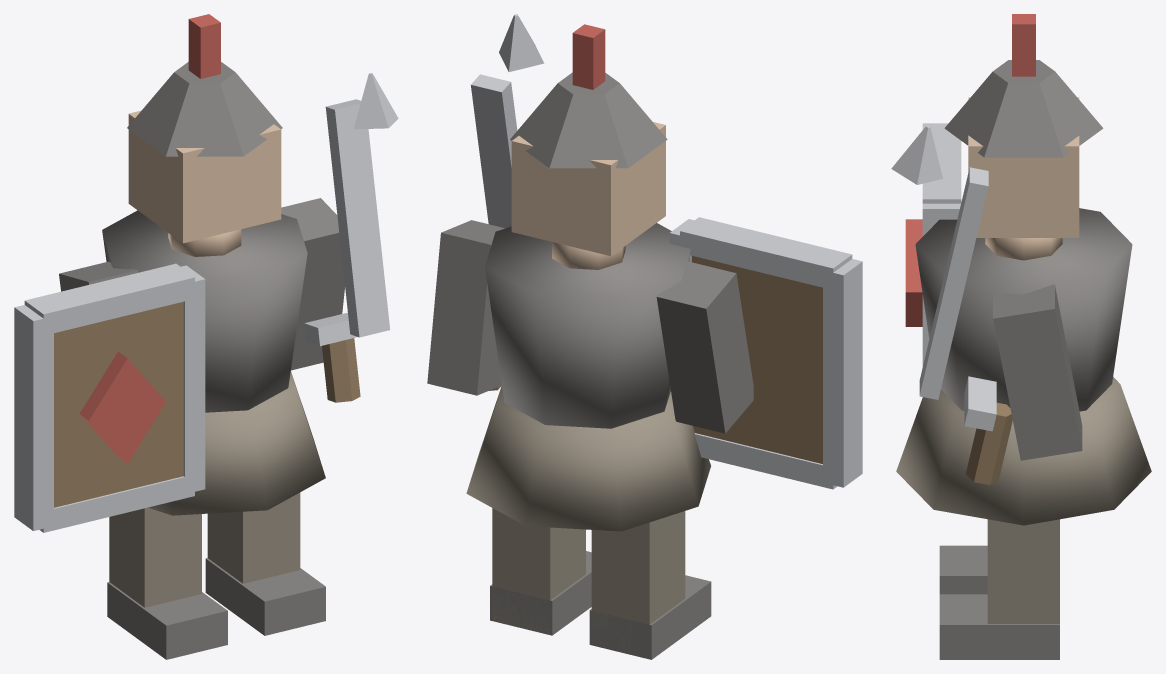
Rendered from troop-swordsman.glb.
The picture shows the model from 3 angles, left to right: view 1: azimuth 30°, elevation 25°; view 2: azimuth 150°, elevation 25°; view 3: azimuth 270°, elevation 25°; orthographic projection.
Parts seen in each view (by area): view 1: body, shield, head, skirt, sword_blade, helmet, shield_rim_l, leg_l, leg_r, shield_rim_t, arm_r, foot_l (+10 smaller); view 2: body, skirt, shield, head, arm_l, arm_r, helmet, leg_l, shield_rim_l, leg_r, shield_rim_t, sword_blade (+6 smaller); view 3: body, skirt, arm_r, helmet, head, leg_r, foot_r, sword_blade, foot_l, sword_grip, shield_rim_t, shield_boss (+5 smaller).
Boxes of the visible parts, left/top/right/bottom form: body: left=102, top=210, right=307, bottom=412; shield: left=54, top=301, right=183, bottom=507; head: left=128, top=110, right=281, bottom=243; skirt: left=148, top=371, right=325, bottom=515; sword_blade: left=325, top=99, right=390, bottom=337; helmet: left=127, top=62, right=282, bottom=156; shield_rim_l: left=14, top=305, right=53, bottom=530; leg_l: left=109, top=507, right=201, bottom=607; leg_r: left=207, top=492, right=300, bottom=583; shield_rim_t: left=24, top=263, right=194, bottom=333; arm_r: left=281, top=198, right=344, bottom=370; foot_l: left=107, top=582, right=227, bottom=659; body: left=485, top=223, right=690, bottom=428; skirt: left=466, top=385, right=710, bottom=531; shield: left=691, top=256, right=822, bottom=463; head: left=511, top=122, right=665, bottom=256; arm_l: left=656, top=261, right=753, bottom=433; arm_r: left=427, top=220, right=504, bottom=395; helmet: left=510, top=72, right=667, bottom=168; leg_l: left=591, top=511, right=685, bottom=658; shield_rim_l: left=823, top=259, right=862, bottom=487; leg_r: left=492, top=508, right=585, bottom=634; shield_rim_t: left=680, top=217, right=852, bottom=289; sword_blade: left=471, top=74, right=517, bottom=228; body: left=915, top=208, right=1132, bottom=411; skirt: left=896, top=377, right=1151, bottom=525; arm_r: left=993, top=284, right=1082, bottom=460; helmet: left=944, top=60, right=1103, bottom=157; head: left=968, top=97, right=1079, bottom=237; leg_r: left=987, top=519, right=1059, bottom=623; foot_r: left=939, top=594, right=1059, bottom=659; sword_blade: left=919, top=167, right=988, bottom=399; foot_l: left=939, top=545, right=987, bottom=594; sword_grip: left=966, top=402, right=1012, bottom=485; shield_rim_t: left=922, top=124, right=961, bottom=203; shield_boss: left=905, top=219, right=922, bottom=326.
Bounding box in the file's own units: 0.182 × 0.275 × 0.108.
